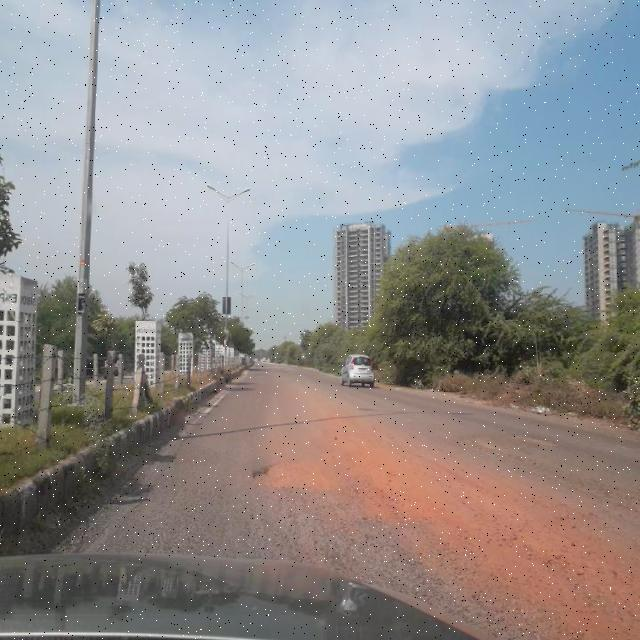D40: (362, 468, 640, 634), (247, 439, 359, 493), (459, 429, 569, 456)
D44: (144, 399, 213, 459)
